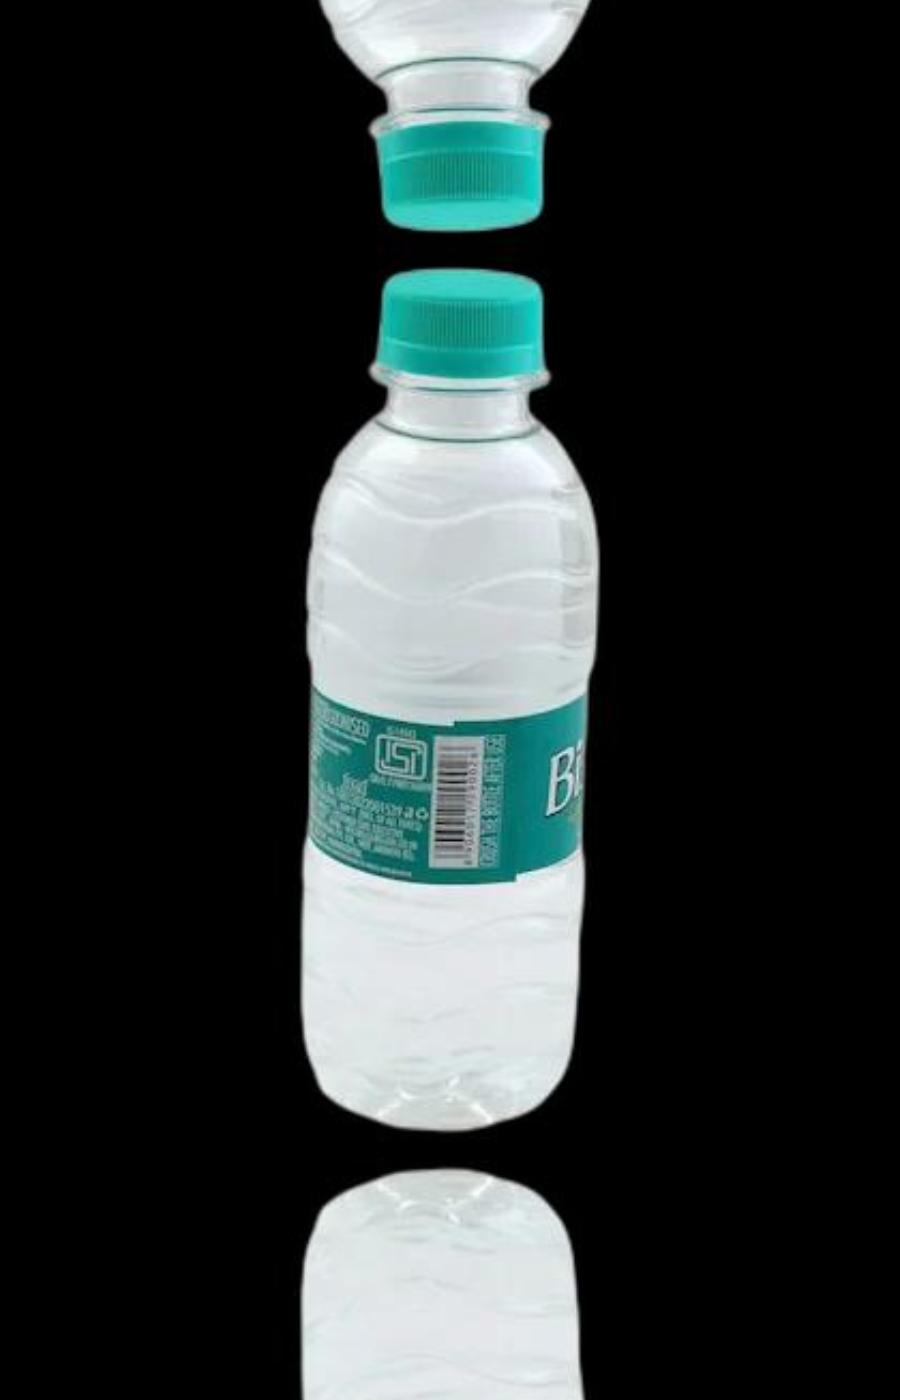Bisleri Packaged Drinking Water 250 ml: (297, 250, 613, 1133), (297, 0, 613, 250), (297, 1167, 613, 1400)
